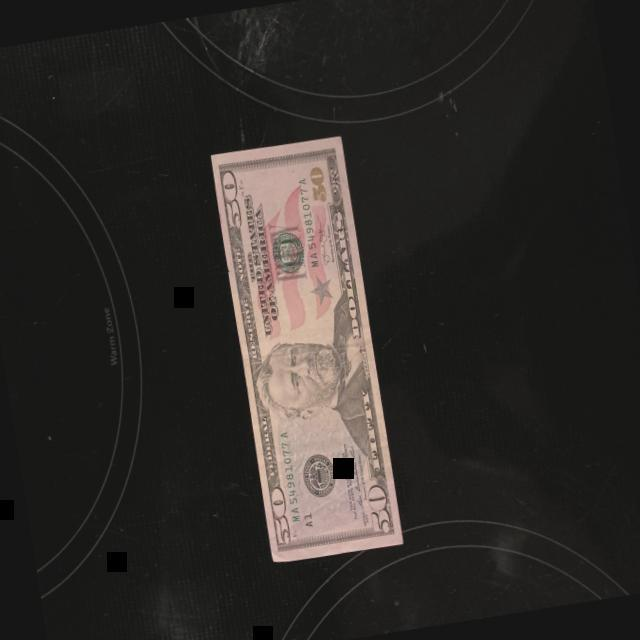fifty: (207, 134, 406, 566)
